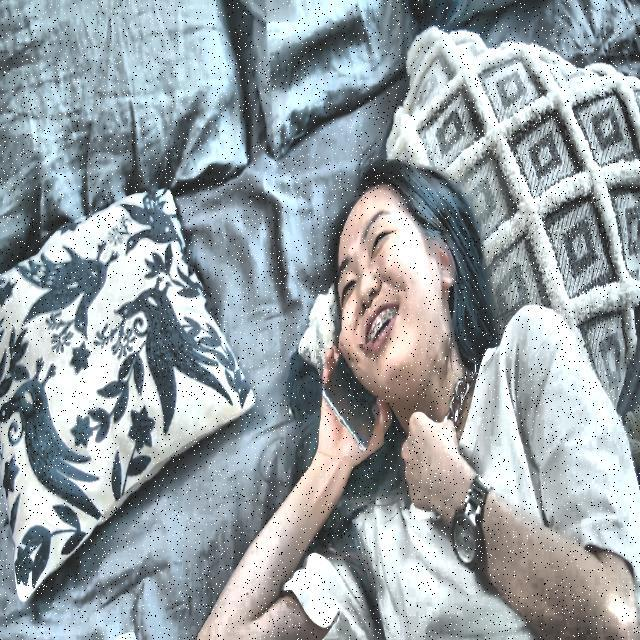Phone: (318, 344, 383, 458)
